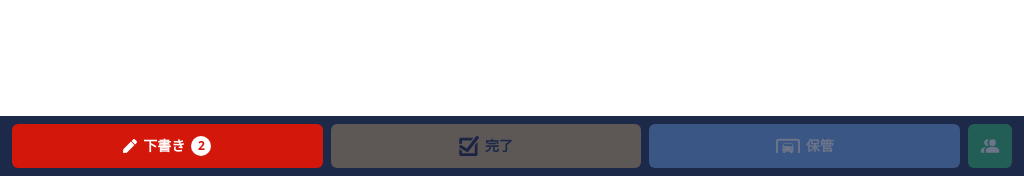
Test: ProcessingBar › 下書き複数件クリックでポップアップメニューを表示する
The width and height of the screenshot is (1024, 176).
Click the button "下書き 2".
click(167, 146)  # box left=12, top=124, right=323, bottom=168
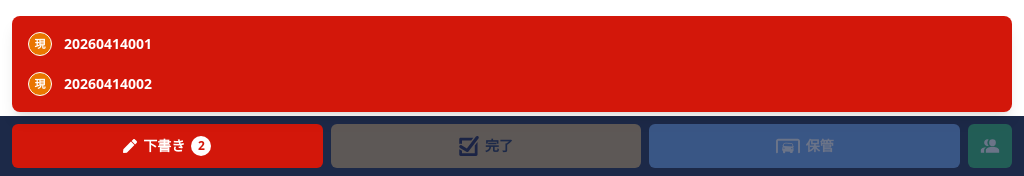
expect the text "20260414001" is shown: met, box left=64, top=34, right=152, bottom=54
expect the text "20260414002" is shown: met, box left=64, top=74, right=152, bottom=94
